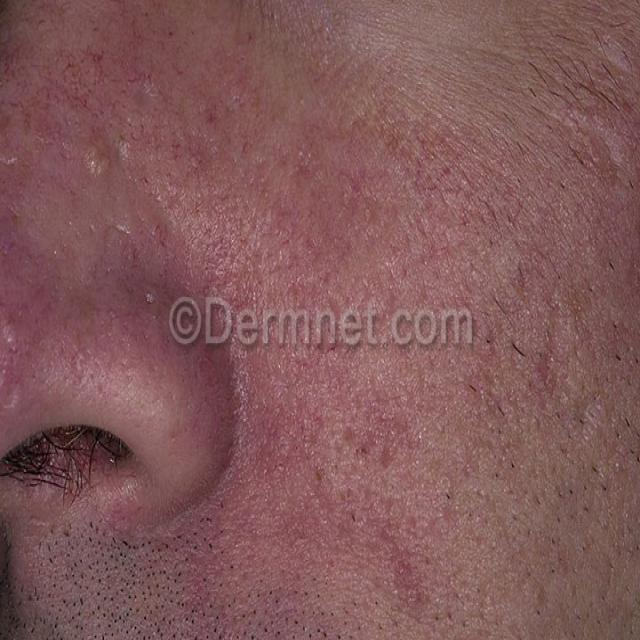acne: (0, 287, 46, 390), (82, 134, 124, 227), (126, 68, 160, 147)
